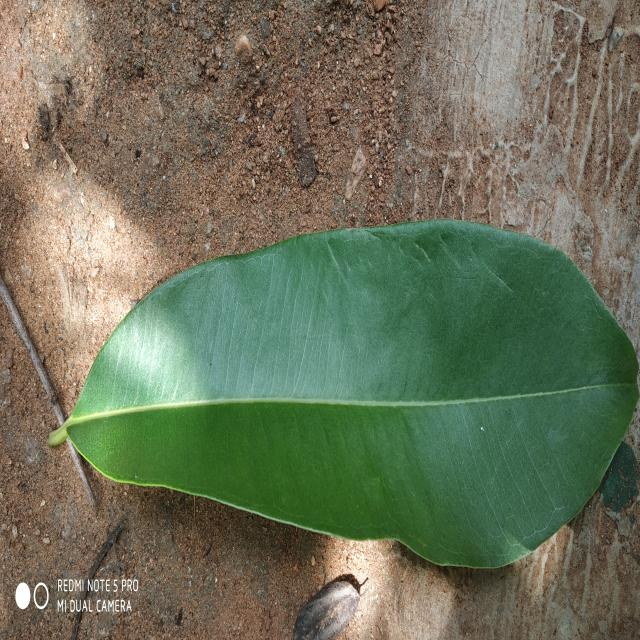nerale: (49, 220, 639, 567)
